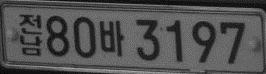0: (72, 15, 96, 58)
1: (164, 19, 186, 62)
3: (136, 19, 160, 61)
7: (219, 20, 245, 64)
8: (45, 15, 70, 57)
9: (192, 20, 216, 63)
바: (99, 19, 124, 56)
전남_V: (18, 13, 42, 55)
